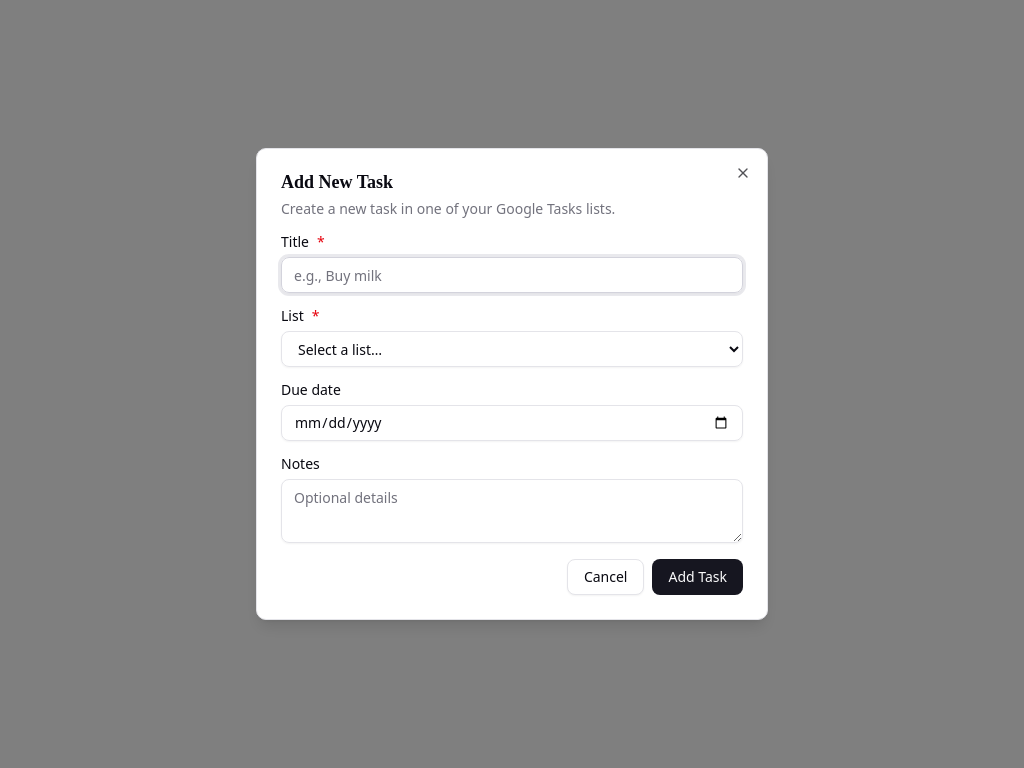
Test: NewTaskModal › validation › shows an inline error when submitting without selecting a list
Type "Buy milk" into the field labelled "Title *". click: point(512, 275)
box: x1=281 y1=257 x2=743 y2=293
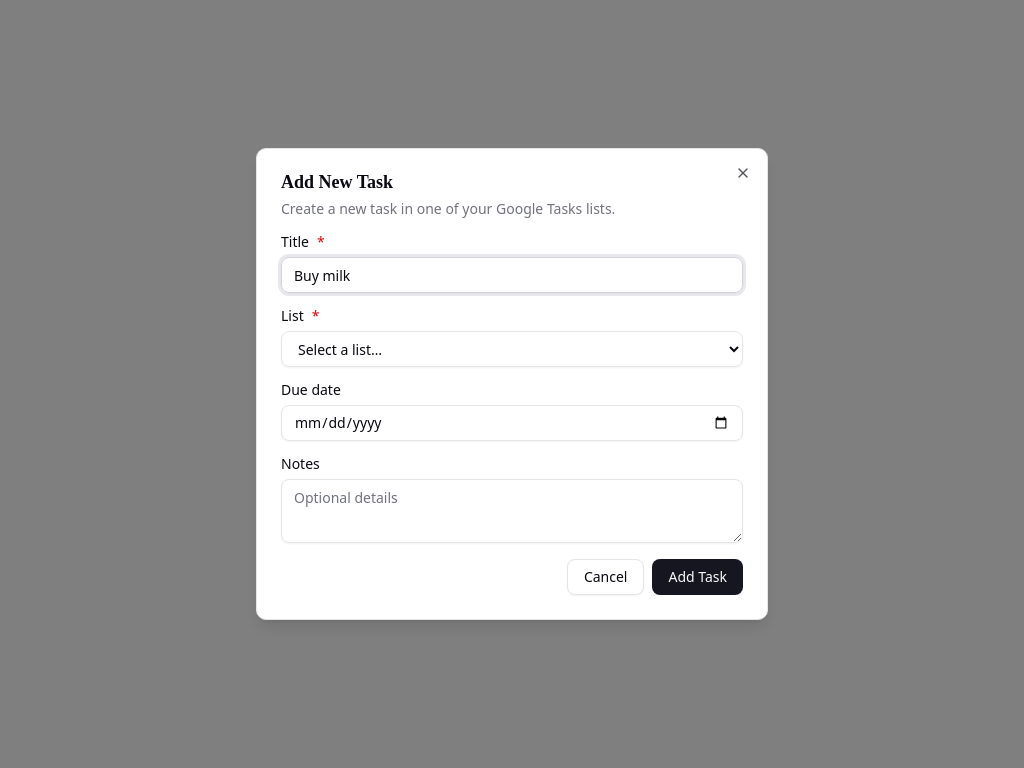
Click the button "Add Task". click: point(698, 577)
box: x1=652 y1=559 x2=743 y2=595
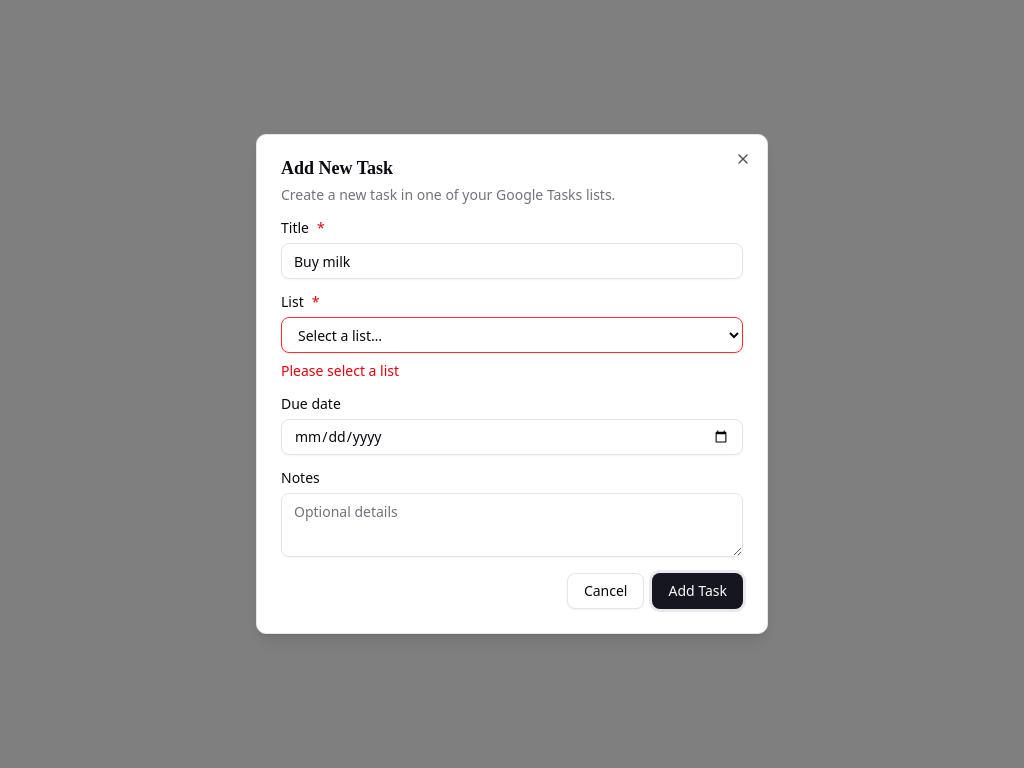
Expected: the message reads "Please select a list", x1=281 y1=361 x2=399 y2=380
